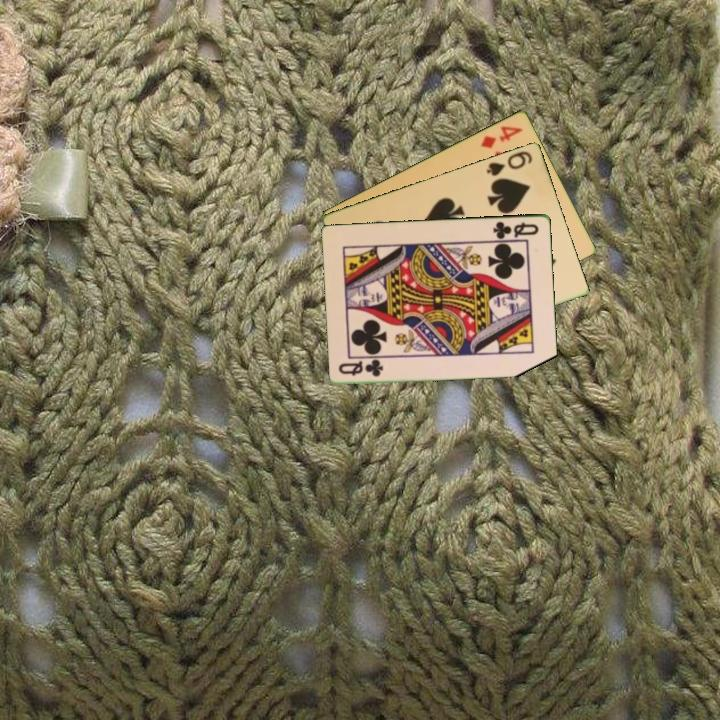4d: (477, 122, 525, 151)
6s: (483, 147, 535, 179)
Qc: (490, 218, 541, 242), (336, 357, 386, 379)
